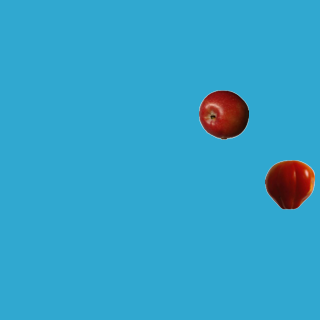Apple Braeburn: (198, 89, 248, 139)
Tomato 1: (264, 159, 314, 209)
